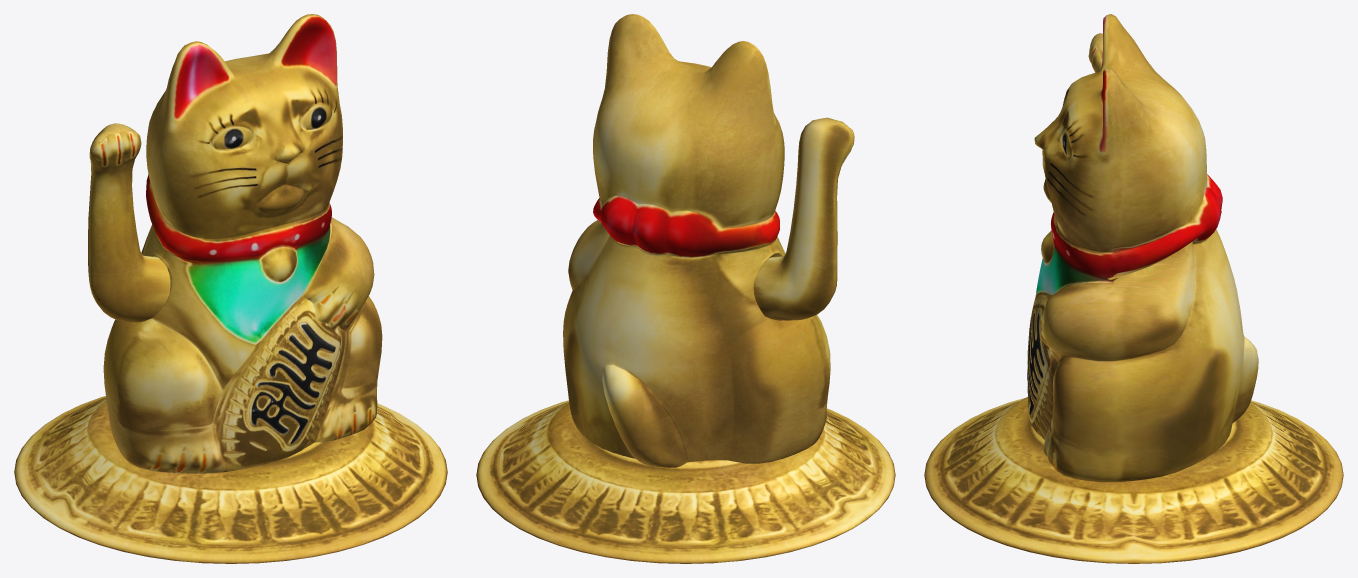
The model's file is maneki_neko.glb.
3 renders of one model, left to right at view 1: azimuth 30°, elevation 25°; view 2: azimuth 150°, elevation 25°; view 3: azimuth 270°, elevation 25°, orthographic. The views are drawn at different scales.
Visible parts, largest first — view 1: ManekinekoB, ManekinekoH; view 2: ManekinekoB, ManekinekoH; view 3: ManekinekoB.
Boxes of the visible parts, bbox=[...] form: ManekinekoB: bbox=[14, 14, 447, 563]; ManekinekoH: bbox=[88, 123, 170, 322]; ManekinekoB: bbox=[476, 14, 895, 563]; ManekinekoH: bbox=[753, 117, 854, 320]; ManekinekoB: bbox=[924, 14, 1343, 563].
Size of the model in its own units: 4.24 by 4.87 by 4.24.
Materials: 1 (1 with a texture image).
